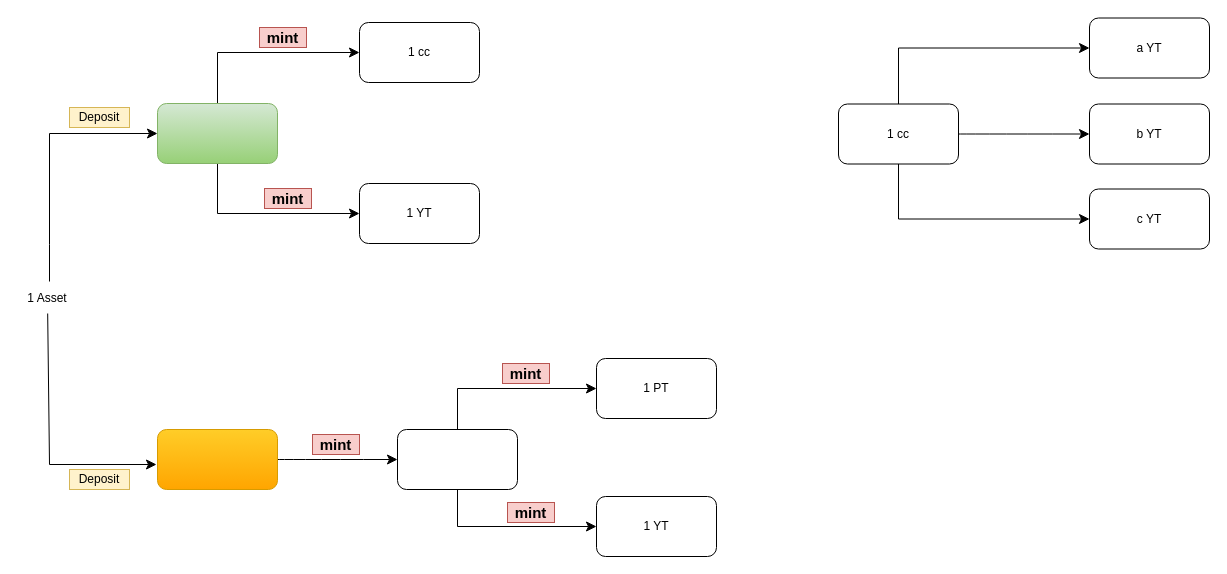
The diagram is 1227 pixels wide and 574 high, and some of its shapes have lost their labels. The box of each missing label's shape, as (x1, y1, x2, y2) in pixels:
1 SY: (396, 428, 518, 490)
Aperta: (156, 102, 278, 164)
Pendle: (156, 428, 278, 490)
